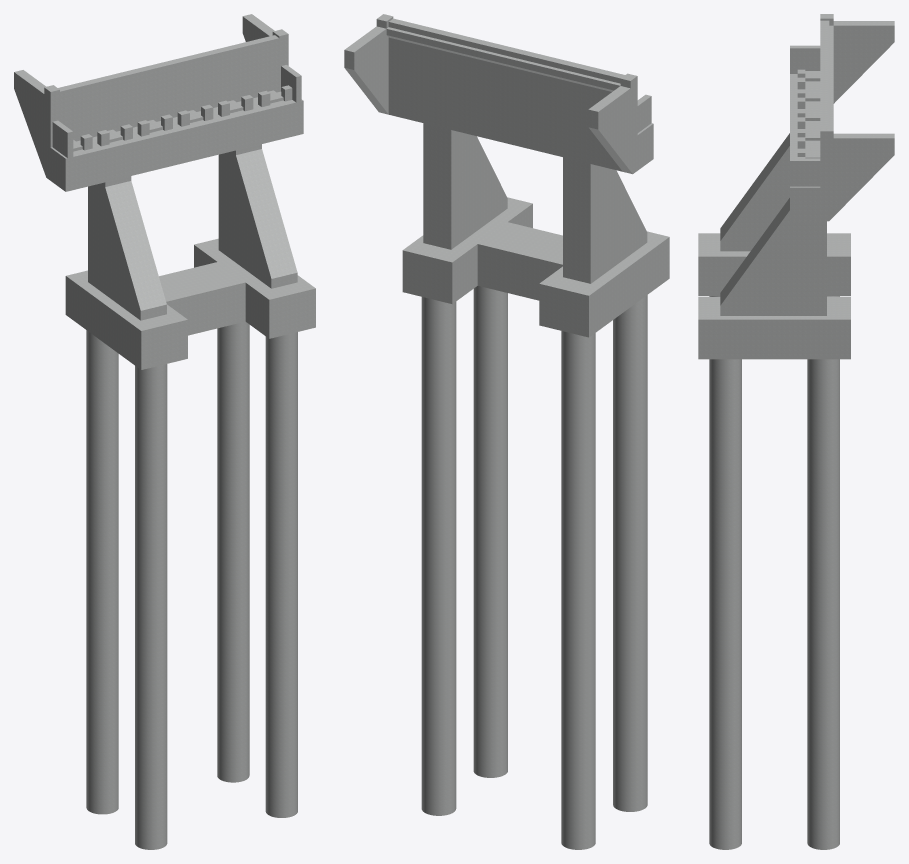
3 renders of one model, left to right at view 1: azimuth 30°, elevation 25°; view 2: azimuth 150°, elevation 25°; view 3: azimuth 270°, elevation 25°, orthographic. The views are drawn at different scales.
Visible parts, largest first — view 1: [16451], [3018], [3082], [3139], [5063], [3162], [9026], [9025]; view 2: [16451], [3162], [3139], [3018], [5063], [3082], [9026], [9025]; view 3: [3082], [3162], [16451], [5063], [9026], [9025].
Boxes of the visible parts, x1,y1,x2,y2 form: [16451]: (14,14,303,191); [3018]: (135,364,167,849); [3082]: (265,332,297,817); [3139]: (86,330,118,814); [5063]: (65,238,315,369); [3162]: (217,321,249,782); [9026]: (218,144,297,288); [9025]: (88,176,166,320); [16451]: (344,14,653,174); [3162]: (421,297,456,815); [3139]: (561,331,595,849); [3018]: (613,295,647,811); [5063]: (402,197,669,337); [3082]: (473,286,507,777); [9026]: (423,123,507,249); [9025]: (563,157,647,283); [3082]: (709,359,741,849); [3162]: (807,359,839,849); [16451]: (790,14,894,221); [5063]: (698,233,850,359); [9026]: (720,198,826,315); [9025]: (720,133,789,251).
Size of the model in its own units: 12.74 by 37.35 by 9.
1 material, 1 textured.
